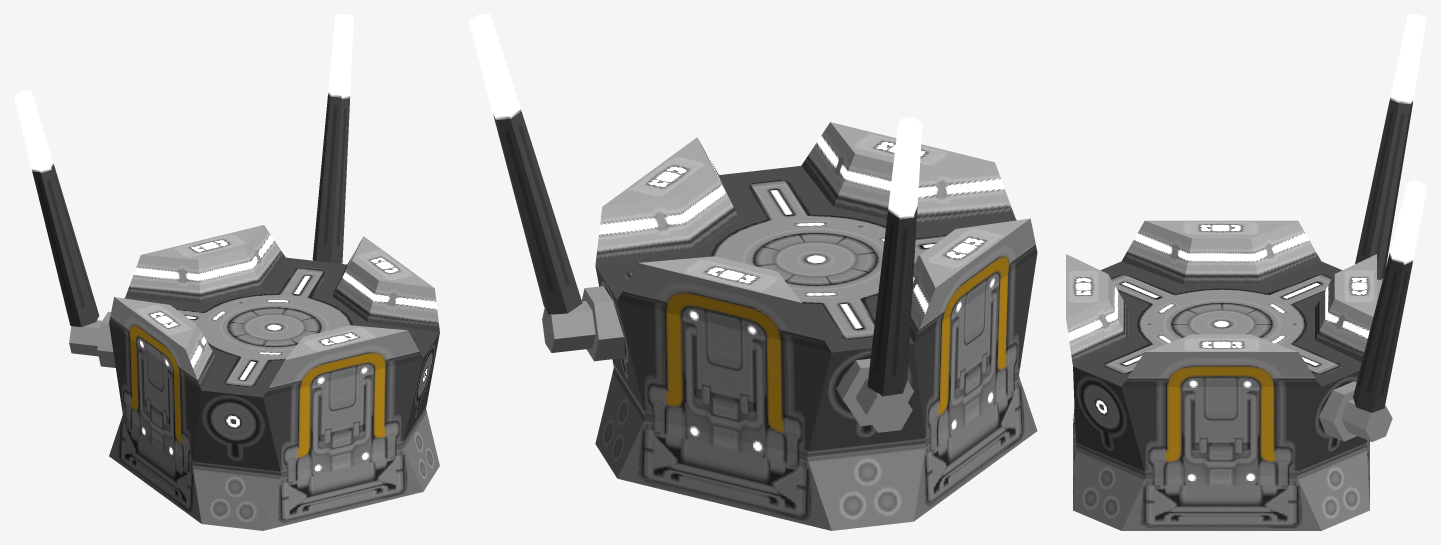
File: drone-depot2.glb
The picture shows the model from 3 angles, left to right: view 1: azimuth 30°, elevation 25°; view 2: azimuth 150°, elevation 25°; view 3: azimuth 270°, elevation 25°; orthographic projection. The views are drawn at different scales.
Visible parts, largest first — view 1: Plane.018; view 2: Plane.018; view 3: Plane.018.
Part boxes in pixels (left/top/right/bottom): Plane.018: left=14, top=14, right=439, bottom=530; Plane.018: left=468, top=14, right=1037, bottom=530; Plane.018: left=1066, top=14, right=1426, bottom=530.
Size of the model in its own units: 14.11 by 13.63 by 12.09.
1 material, 1 textured.
